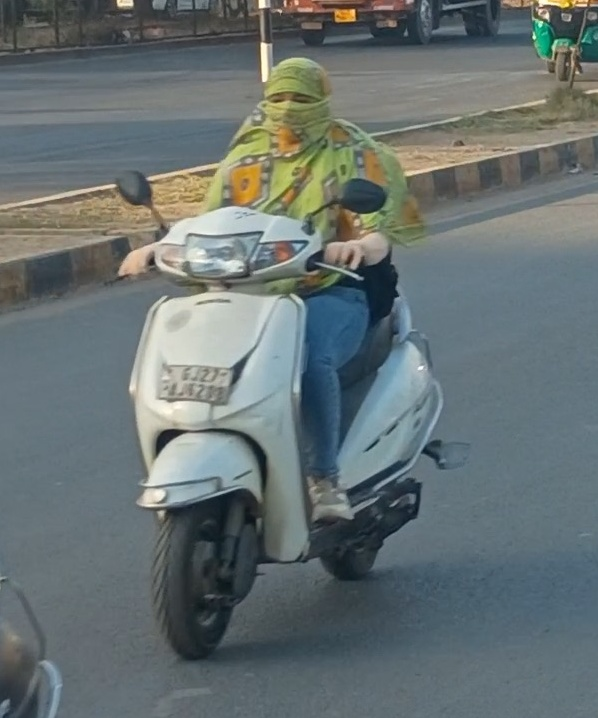BikeWithRider: (88, 52, 481, 667)
NoHelmet: (256, 53, 340, 147)
